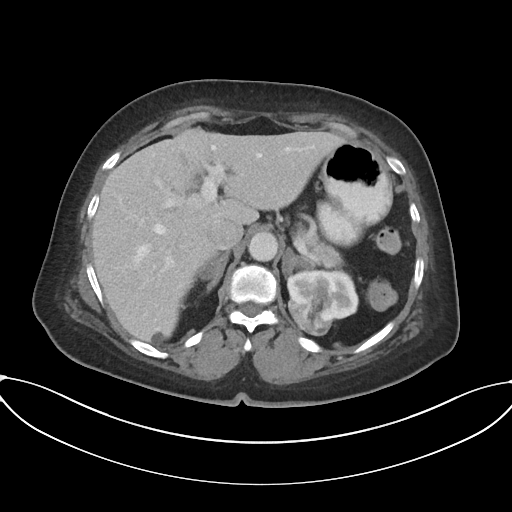Lesion: (287, 295, 332, 339)
